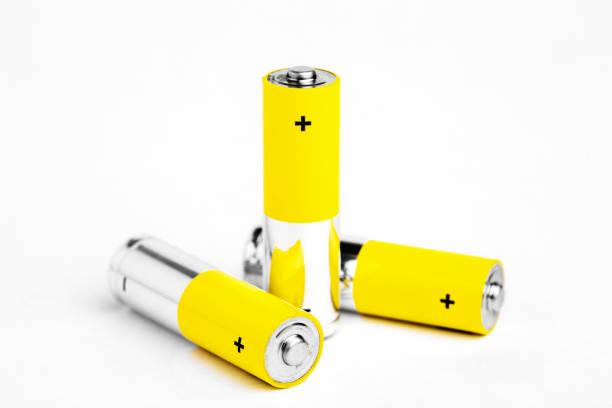battery: (103, 222, 346, 402), (228, 60, 380, 330), (228, 215, 524, 335)
